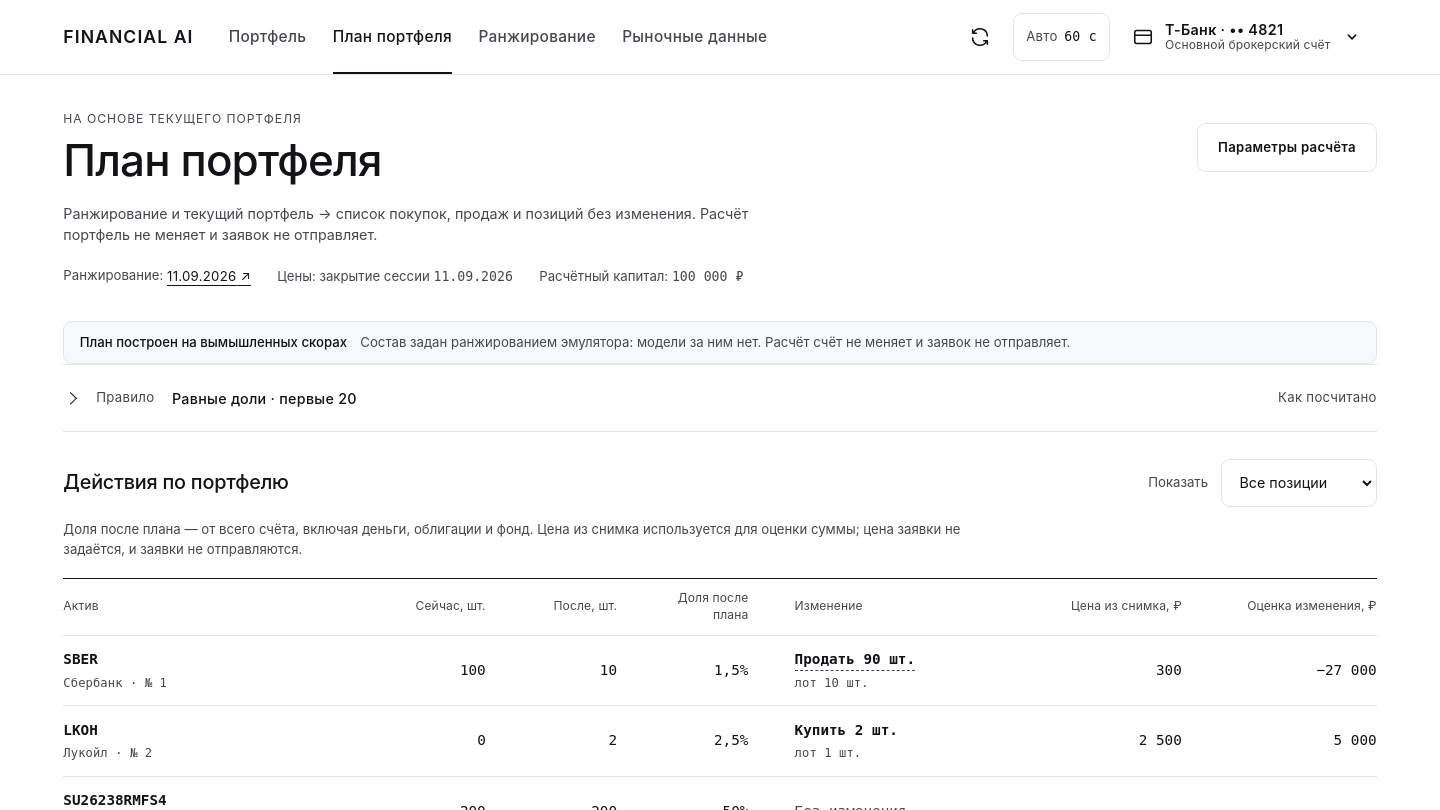
Test case: параметры расчёта › не отправляет неразбираемый ввод на сервер
Click the button "Параметры расчёта": point(1287, 148) [1197,124,1377,172]
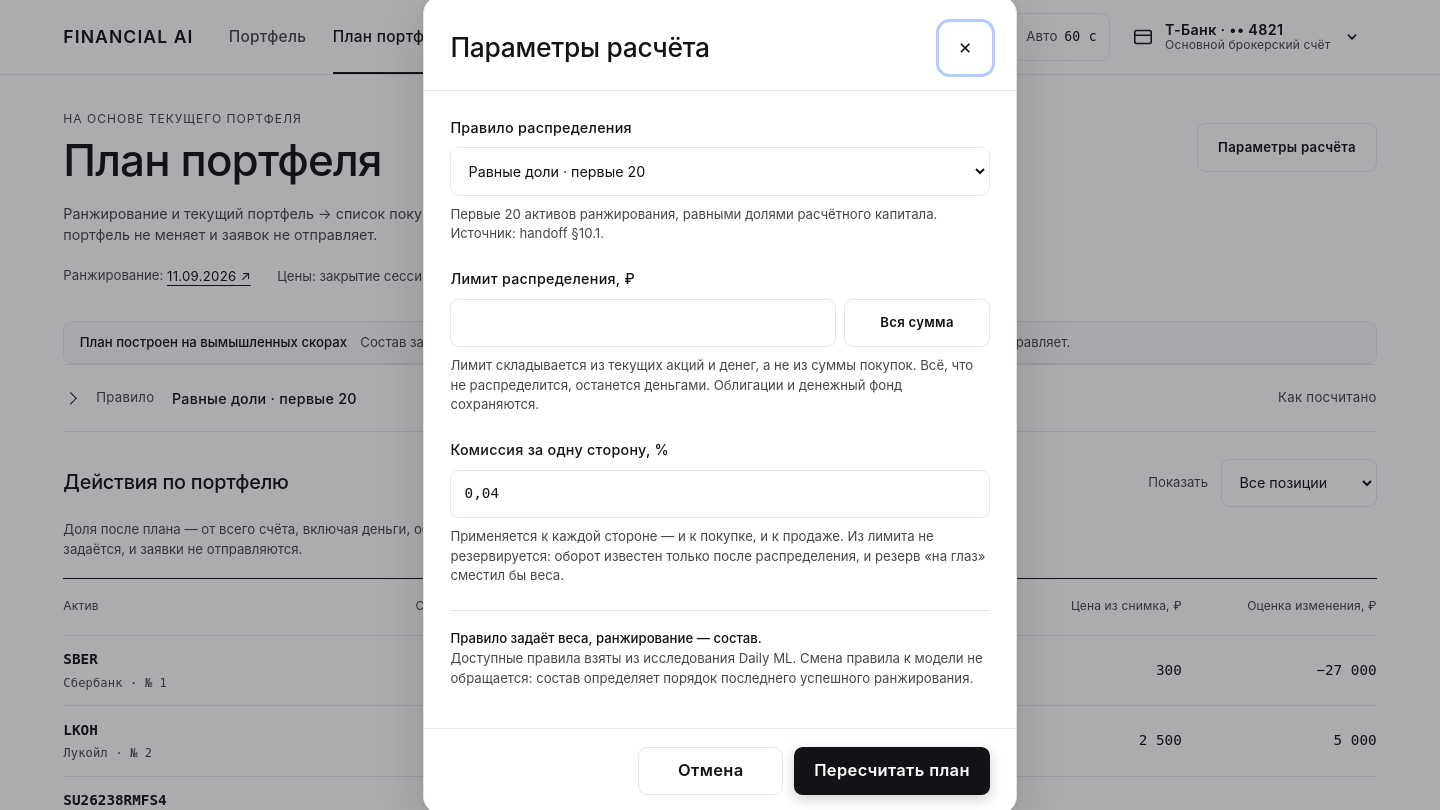
In the field labelled "Комиссия за одну сторону, %": point(720, 494) [450,470,990,518], type "ноль"
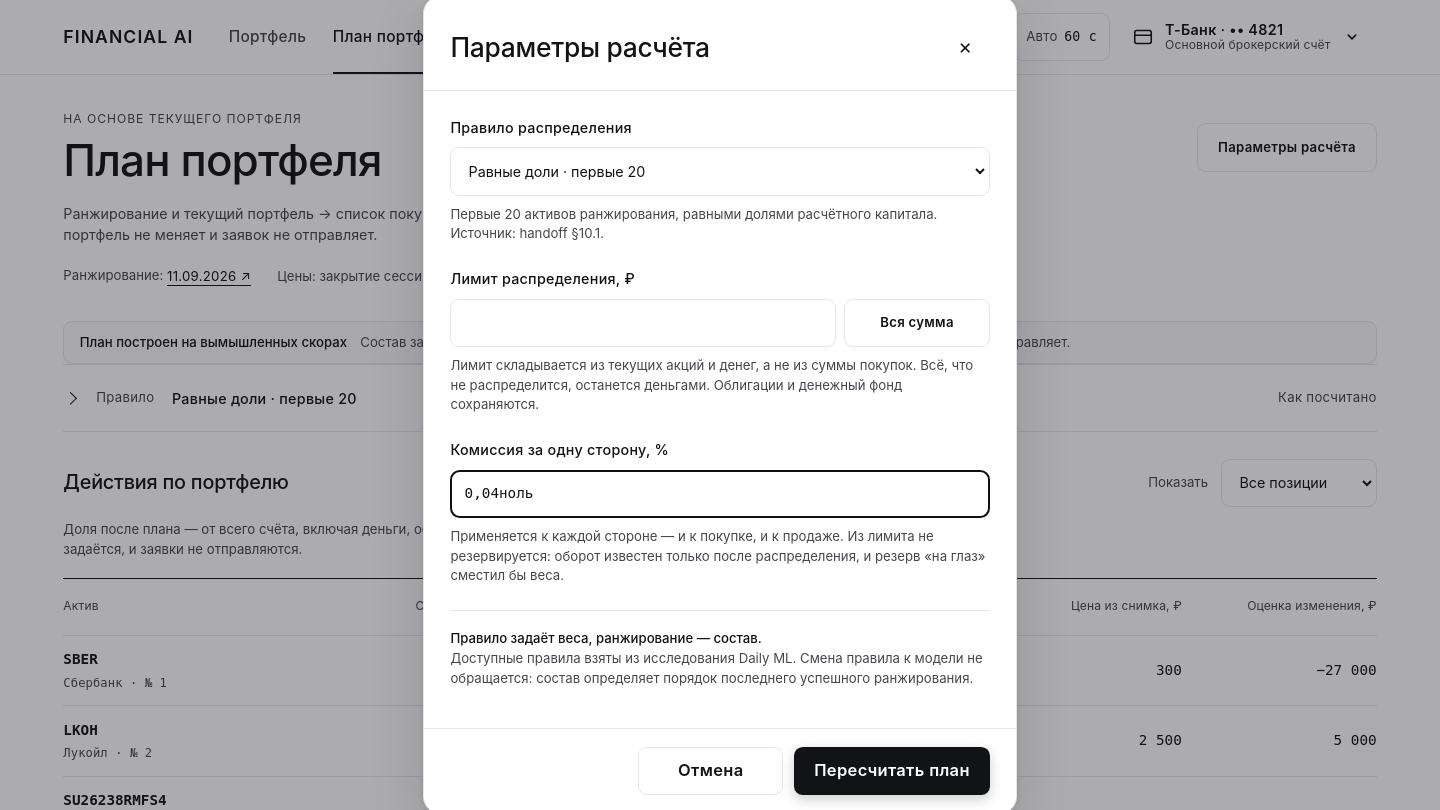
Click the button "Пересчитать план": point(892, 771) [794,747,990,795]
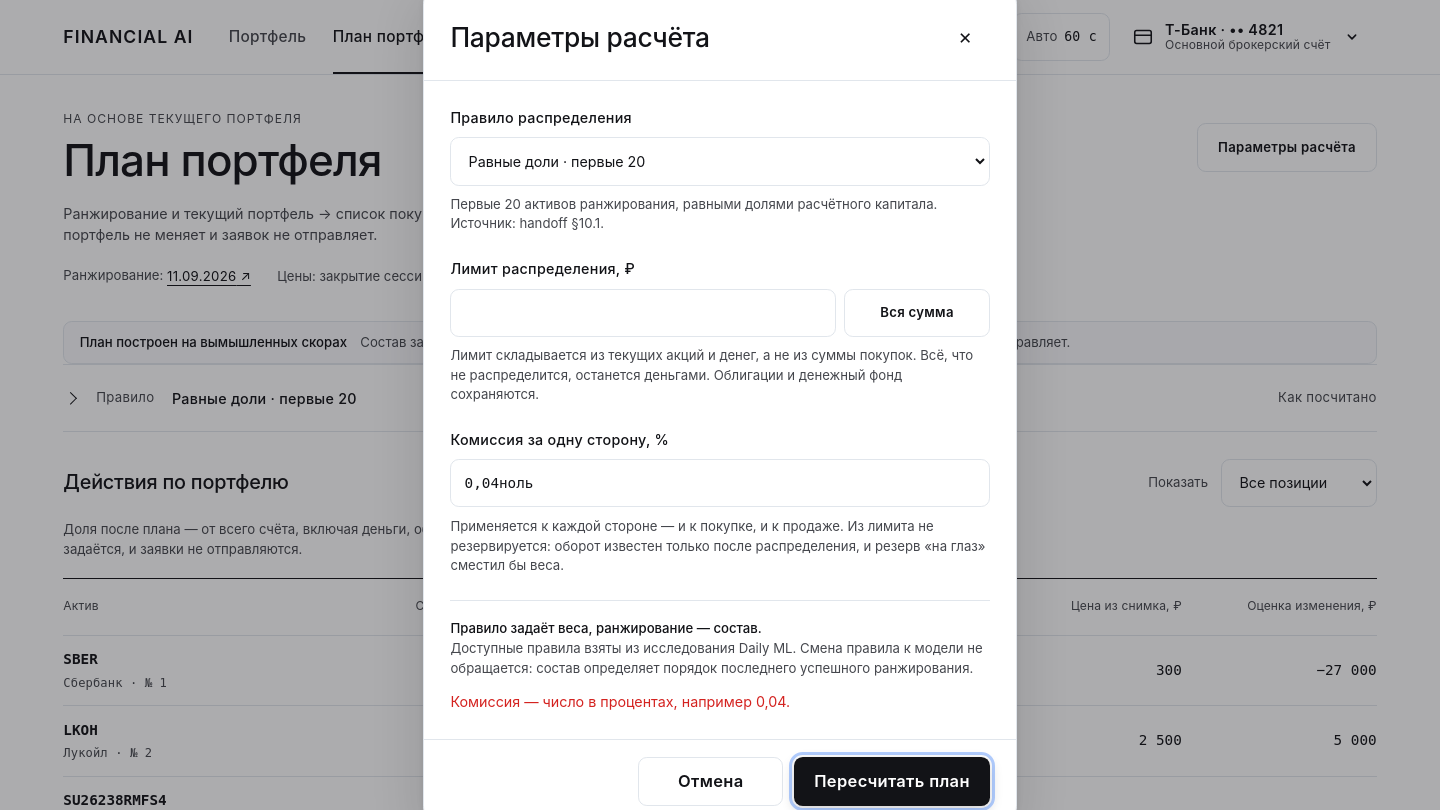
Expected: the message shows "Комиссия — число в процентах", [450,693,790,710]
